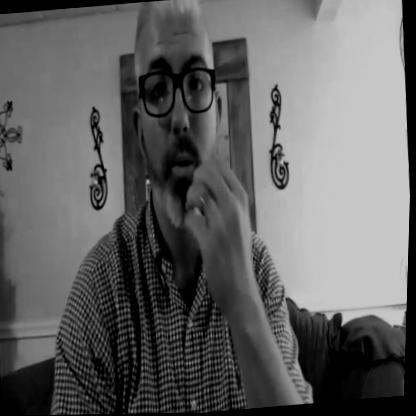Food: (127, 0, 270, 314)
